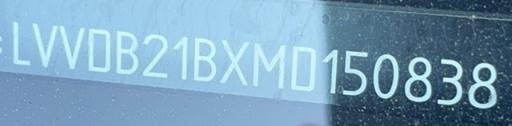letter: (251, 39, 285, 91), (465, 60, 499, 110), (218, 37, 250, 87), (435, 56, 465, 105), (370, 52, 400, 99), (403, 54, 433, 101), (140, 32, 170, 78), (290, 43, 318, 91), (340, 47, 368, 94), (31, 22, 59, 68), (58, 23, 84, 69), (86, 27, 112, 73), (192, 36, 218, 82), (116, 28, 140, 75), (320, 47, 340, 94), (12, 19, 32, 65), (172, 33, 190, 81)
